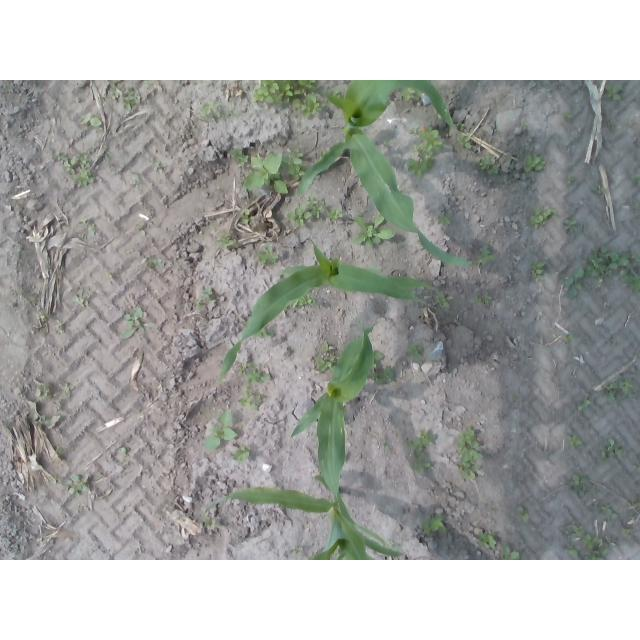Maize: (295, 81, 498, 272), (216, 241, 442, 387), (293, 321, 392, 548), (195, 473, 405, 560)
Weeds: (583, 245, 640, 292), (244, 153, 289, 195), (408, 127, 445, 177), (564, 521, 608, 560), (403, 430, 439, 475), (454, 426, 483, 478), (353, 214, 395, 249), (54, 151, 94, 186), (204, 411, 237, 452), (288, 196, 325, 227), (251, 80, 293, 105), (109, 80, 139, 110), (292, 94, 327, 119), (51, 474, 89, 495), (236, 363, 270, 386), (28, 401, 58, 427), (280, 149, 305, 180), (121, 307, 144, 340), (564, 265, 585, 300), (601, 381, 634, 403), (316, 342, 340, 372), (530, 204, 559, 228), (568, 475, 597, 498), (598, 437, 627, 460), (240, 321, 277, 339), (364, 351, 384, 380), (239, 386, 261, 411), (422, 513, 447, 533), (258, 244, 279, 266), (523, 153, 546, 173), (475, 157, 499, 176), (288, 293, 316, 308), (230, 149, 251, 168), (399, 85, 422, 102), (477, 531, 497, 550), (497, 545, 522, 560), (374, 365, 394, 383), (197, 288, 215, 308), (434, 291, 454, 309), (218, 232, 239, 249), (200, 102, 221, 119), (602, 84, 622, 101), (80, 216, 97, 236), (292, 80, 317, 93), (79, 113, 102, 127), (565, 432, 584, 448), (531, 260, 546, 280), (232, 445, 249, 462), (73, 292, 91, 308), (601, 504, 619, 520), (239, 208, 256, 224), (326, 206, 343, 222), (515, 505, 530, 523), (457, 131, 472, 149), (145, 255, 164, 269), (405, 344, 423, 358), (474, 293, 492, 306), (34, 383, 49, 398), (328, 90, 341, 107), (479, 244, 490, 264), (437, 211, 452, 225), (563, 219, 577, 234), (577, 397, 591, 411), (59, 381, 71, 397), (620, 528, 634, 541), (289, 547, 303, 560), (203, 517, 215, 530), (36, 311, 50, 322), (225, 107, 239, 117), (561, 332, 573, 343), (153, 161, 163, 172), (135, 226, 145, 236), (519, 120, 529, 130), (101, 150, 111, 159), (563, 110, 574, 118), (396, 238, 404, 249), (118, 446, 128, 454), (381, 441, 389, 451), (566, 175, 574, 184), (596, 186, 604, 195), (458, 120, 466, 129), (635, 174, 640, 186), (319, 151, 327, 158), (144, 80, 153, 86), (381, 140, 388, 147), (134, 179, 141, 185), (636, 464, 640, 472)
